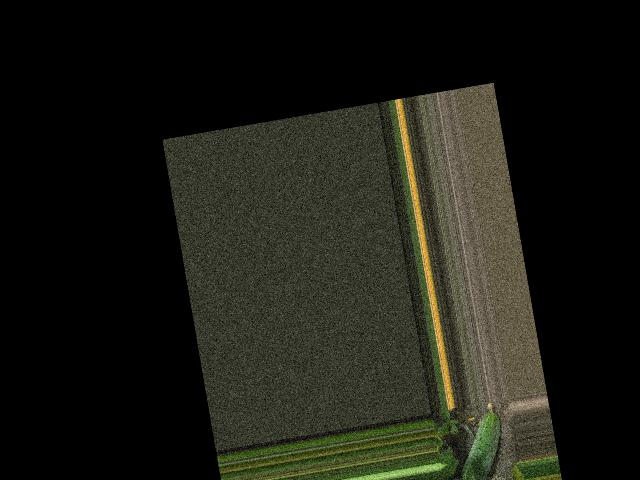cucumber: (450, 399, 511, 480)
